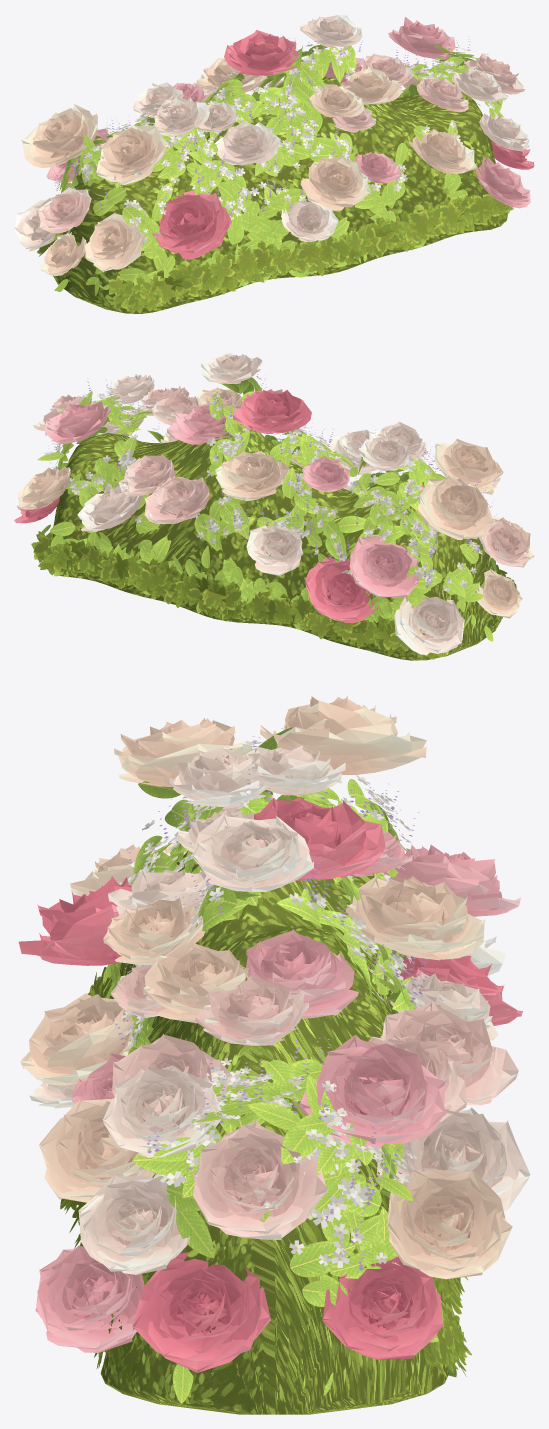
Rendered from FlowerBank_1m_sample_A_1002_v17.glb.
3 renders of one model, top to bottom at view 1: azimuth 30°, elevation 25°; view 2: azimuth 150°, elevation 25°; view 3: azimuth 270°, elevation 25°, orthographic. The views are drawn at different scales.
Parts seen in each view (by area): view 1: FlowerBank_1m; view 2: FlowerBank_1m; view 3: FlowerBank_1m.
Boxes of the visible parts, x1,y1,x2,y2 form: FlowerBank_1m: (14,14,534,313); FlowerBank_1m: (14,352,534,660); FlowerBank_1m: (18,696,530,1414).
Bounding box in the file's own units: 1.28 × 0.5385 × 0.5861.
Materials: 5 (3 with a texture image).
